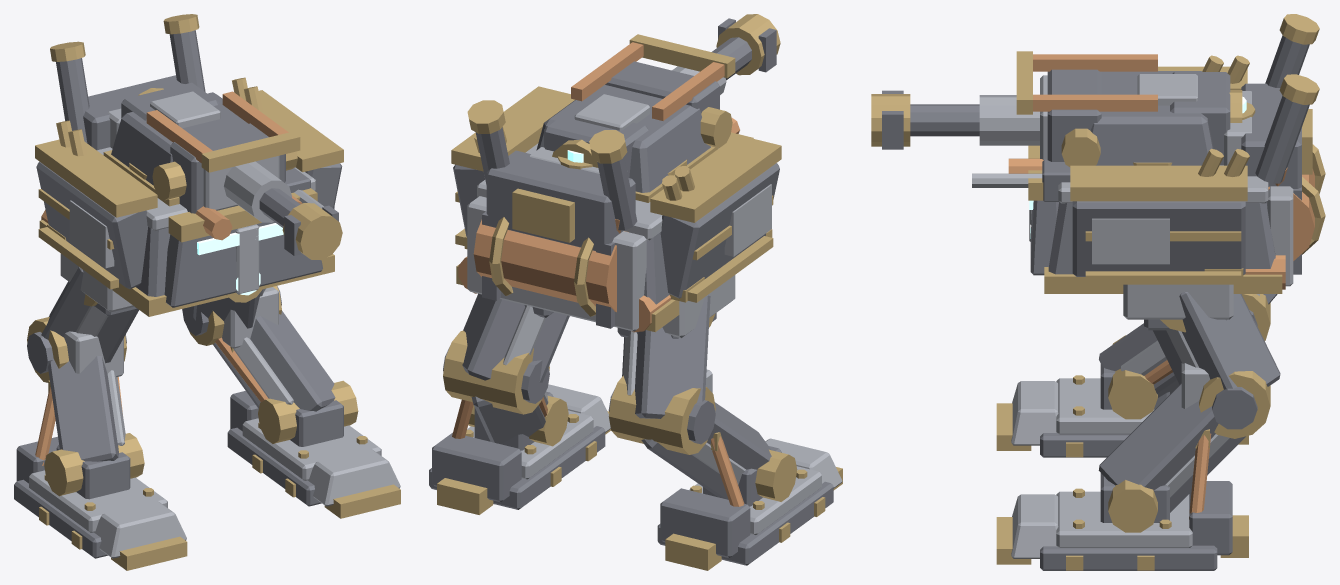
Rendered from gearforge_walker.glb.
3 views of the same model, side by side, from view 1: azimuth 30°, elevation 25°; view 2: azimuth 150°, elevation 25°; view 3: azimuth 270°, elevation 25° (orthographic). The views are drawn at different scales.
Parts seen in each view (by area): view 1: gearforge_walker_hull_lod0, gearforge_walker_leg_l_lod0, gearforge_walker_leg_r_lod0, gearforge_walker_turret_lod0; view 2: gearforge_walker_hull_lod0, gearforge_walker_leg_l_lod0, gearforge_walker_leg_r_lod0, gearforge_walker_turret_lod0; view 3: gearforge_walker_hull_lod0, gearforge_walker_leg_r_lod0, gearforge_walker_turret_lod0, gearforge_walker_leg_l_lod0.
Boxes of the visible parts, x1=… form: gearforge_walker_hull_lod0: x1=35, y1=14, x2=343, y2=316; gearforge_walker_leg_l_lod0: x1=14, y1=267, x2=187, y2=570; gearforge_walker_leg_r_lod0: x1=182, y1=286, x2=400, y2=518; gearforge_walker_turret_lod0: x1=103, y1=82, x2=342, y2=260; gearforge_walker_hull_lod0: x1=451, y1=86, x2=781, y2=338; gearforge_walker_leg_l_lod0: x1=608, y1=294, x2=842, y2=570; gearforge_walker_leg_r_lod0: x1=429, y1=293, x2=610, y2=514; gearforge_walker_turret_lod0: x1=529, y1=14, x2=780, y2=202; gearforge_walker_hull_lod0: x1=1028, y1=14, x2=1325, y2=319; gearforge_walker_leg_r_lod0: x1=996, y1=292, x2=1280, y2=570; gearforge_walker_turret_lod0: x1=871, y1=51, x2=1251, y2=201; gearforge_walker_leg_l_lod0: x1=996, y1=294, x2=1277, y2=457.
Size of the model in its own units: 3.54 by 4.54 by 4.2.
